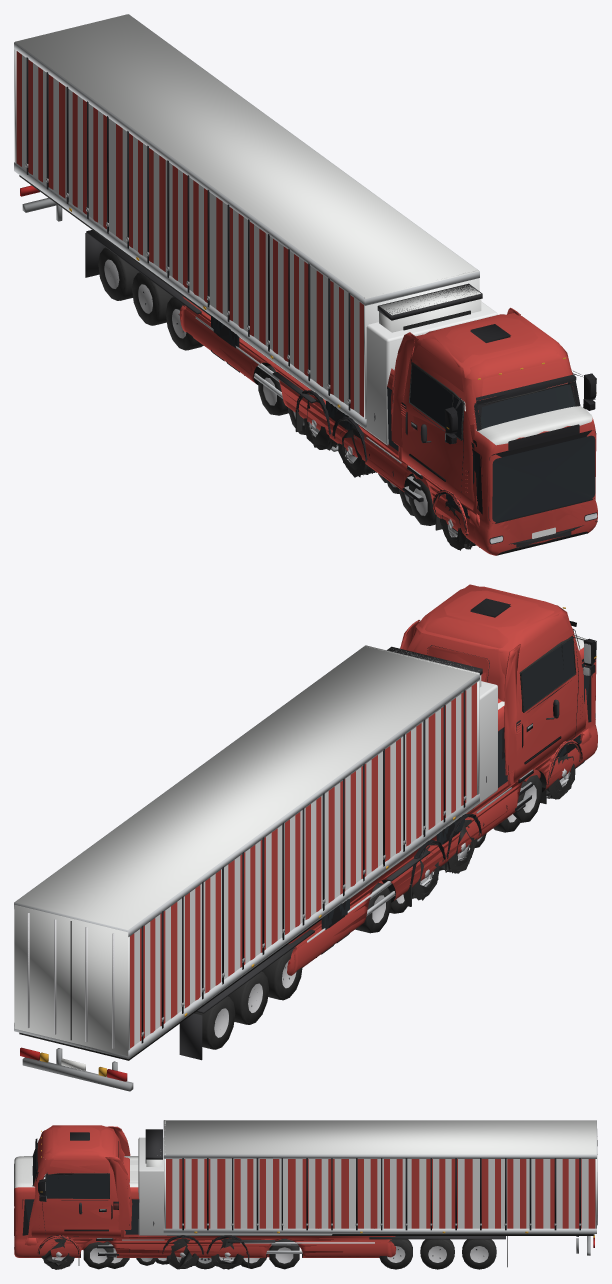
The model's file is cars.glb.
The picture shows the model from 3 angles, top to bottom: view 1: azimuth 30°, elevation 25°; view 2: azimuth 150°, elevation 25°; view 3: azimuth 270°, elevation 25°; orthographic projection. The views are drawn at different scales.
Visible parts, largest first — view 1: trailer_curtain_lo, trailer_curtain, trailer_reefer, semi, bus, trailer_reefer_lo, bus_lo, semi_lo, lorry, lorry_lo; view 2: trailer_curtain_lo, trailer_curtain, trailer_reefer, semi, semi_lo, trailer_reefer_lo, bus, bus_lo, lorry, lorry_lo; view 3: trailer_curtain, trailer_reefer, trailer_curtain_lo, semi, semi_lo, trailer_reefer_lo, bus, bus_lo, lorry, lorry_lo.
Part boxes in pixels (bbox=[...]): trailer_curtain_lo: bbox=[15, 14, 478, 451]; trailer_curtain: bbox=[14, 51, 479, 419]; trailer_reefer: bbox=[14, 49, 482, 418]; semi: bbox=[295, 307, 596, 549]; bus: bbox=[180, 306, 597, 554]; trailer_reefer_lo: bbox=[14, 14, 482, 451]; bus_lo: bbox=[179, 296, 597, 555]; semi_lo: bbox=[296, 310, 594, 550]; lorry: bbox=[231, 301, 497, 499]; lorry_lo: bbox=[273, 333, 430, 515]; trailer_curtain_lo: bbox=[15, 645, 478, 1081]; trailer_curtain: bbox=[14, 682, 479, 1084]; trailer_reefer: bbox=[14, 646, 482, 1091]; semi: bbox=[400, 586, 596, 906]; semi_lo: bbox=[399, 584, 595, 906]; trailer_reefer_lo: bbox=[14, 646, 479, 1091]; bus: bbox=[287, 635, 597, 975]; bus_lo: bbox=[287, 636, 597, 975]; lorry: bbox=[342, 681, 559, 903]; lorry_lo: bbox=[387, 699, 559, 913]; trailer_curtain: bbox=[163, 1128, 597, 1269]; trailer_reefer: bbox=[145, 1129, 597, 1268]; trailer_curtain_lo: bbox=[164, 1120, 596, 1269]; semi: bbox=[27, 1125, 249, 1269]; semi_lo: bbox=[25, 1125, 248, 1268]; trailer_reefer_lo: bbox=[163, 1120, 596, 1269]; bus: bbox=[14, 1156, 395, 1257]; bus_lo: bbox=[14, 1156, 396, 1269]; lorry: bbox=[79, 1137, 332, 1257]; lorry_lo: bbox=[79, 1158, 275, 1268].
Bounding box in the file's own units: 3.31 × 4.57 × 18.35.
